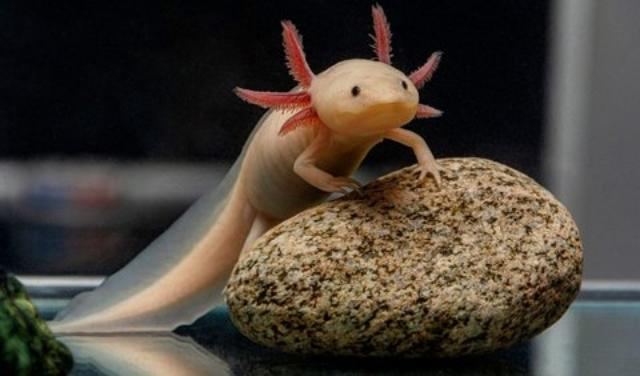Sirip Ekor: (36, 238, 234, 372)
